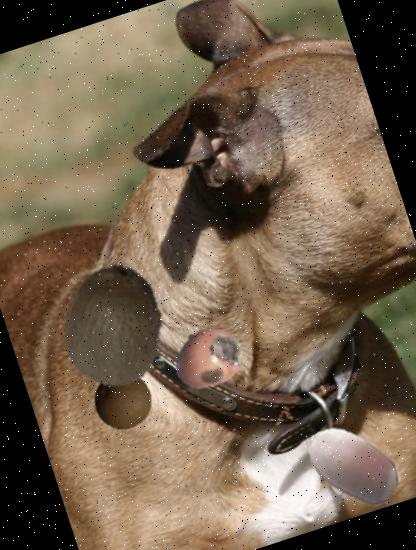Hazelnut: (291, 402, 414, 525)
Kaki: (163, 310, 256, 403)
Kiwi: (33, 245, 192, 404)
Orange: (86, 362, 162, 438)
